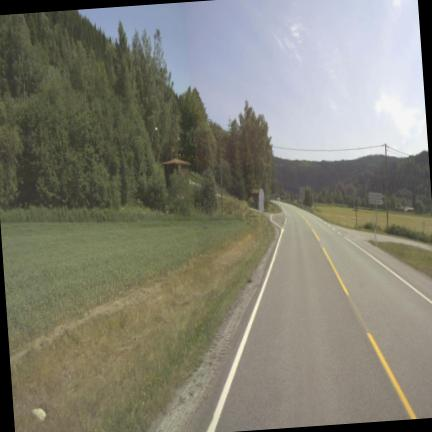Road: (210, 205, 431, 431)
